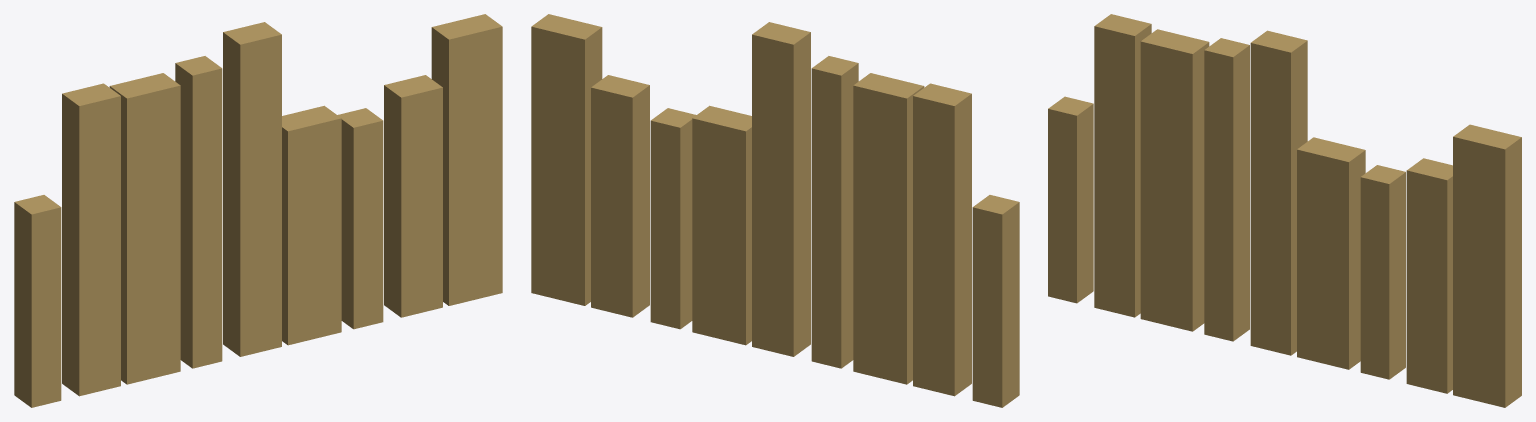
File: fields.glb
3 renders of one model, left to right at view 1: azimuth 30°, elevation 25°; view 2: azimuth 150°, elevation 25°; view 3: azimuth 330°, elevation 25°, orthographic. The views are drawn at different scales.
Parts seen in each view (by area): view 1: LOD0._color_rgb_187_158_100_emissive_n; view 2: LOD0._color_rgb_187_158_100_emissive_n; view 3: LOD0._color_rgb_187_158_100_emissive_n.
Boxes of the visible parts, x1=… form: LOD0._color_rgb_187_158_100_emissive_n: x1=14, y1=14, x2=502, y2=407; LOD0._color_rgb_187_158_100_emissive_n: x1=531, y1=14, x2=1019, y2=407; LOD0._color_rgb_187_158_100_emissive_n: x1=1048, y1=14, x2=1521, y2=407.
Size of what is drawn, in the model's own units: 790 by 501 by 50.01.
